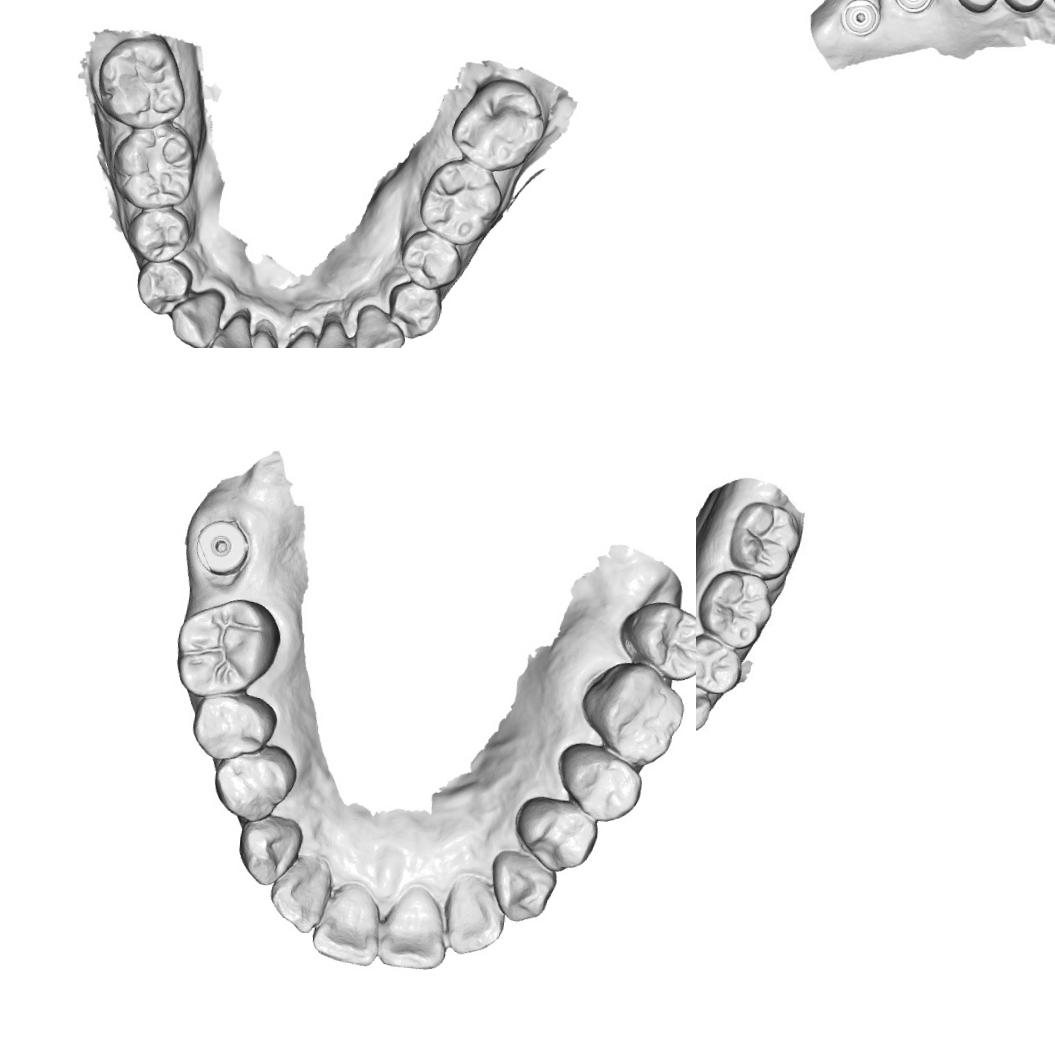canine: (485, 849, 561, 927), (233, 812, 306, 890), (166, 284, 227, 348), (351, 301, 408, 348), (696, 683, 713, 740)
implant: (190, 514, 254, 576), (836, 0, 882, 40), (890, 0, 935, 15)
incisor: (371, 890, 452, 973), (309, 879, 380, 968), (439, 870, 507, 958), (266, 856, 334, 938), (206, 306, 259, 348), (307, 317, 360, 348), (236, 327, 284, 348), (274, 327, 320, 348)
molar: (575, 656, 689, 773), (170, 592, 286, 704), (447, 72, 549, 176), (91, 29, 191, 134), (415, 151, 509, 250), (105, 119, 200, 214), (611, 595, 696, 686), (696, 565, 778, 652), (724, 497, 804, 582)
premolar: (550, 740, 645, 826), (208, 742, 300, 826), (187, 687, 280, 766), (511, 792, 596, 878), (398, 227, 466, 293), (124, 204, 193, 264), (132, 255, 194, 318), (384, 278, 444, 341), (696, 631, 747, 698), (944, 0, 1006, 16), (991, 0, 1050, 15)
